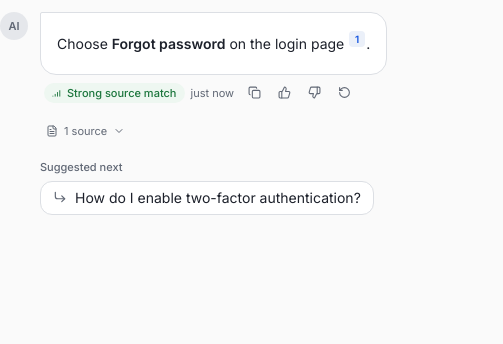
MessageBubble › shows the sources panel with the excerpt and the relevance numeral
Click the button "1 source": (86, 131) [40, 119, 131, 143]
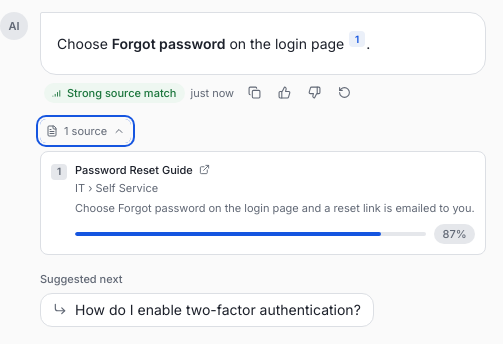
Now the text "Choose Forgot password on the login page" is shown, box [75, 201, 475, 215]
Now the text "IT › Self Service" is shown, box [75, 181, 158, 195]
Now the text "87%" is shown, box [434, 224, 475, 244]
